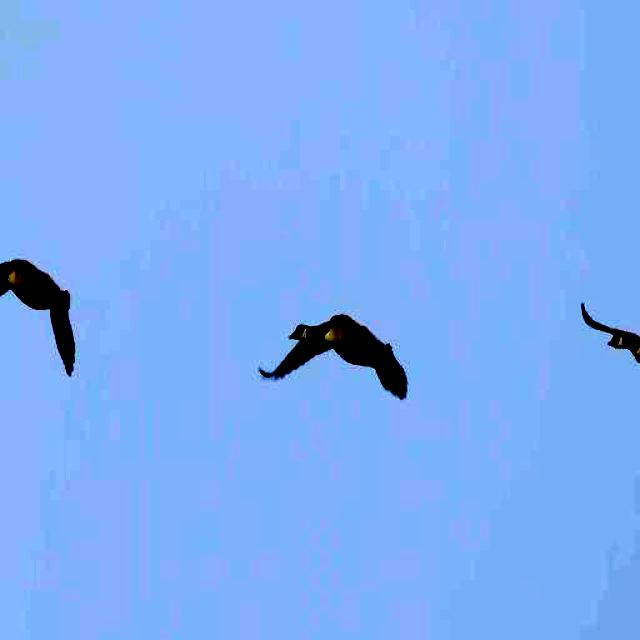airplane: (258, 306, 410, 405), (579, 231, 640, 398), (0, 254, 79, 381)
